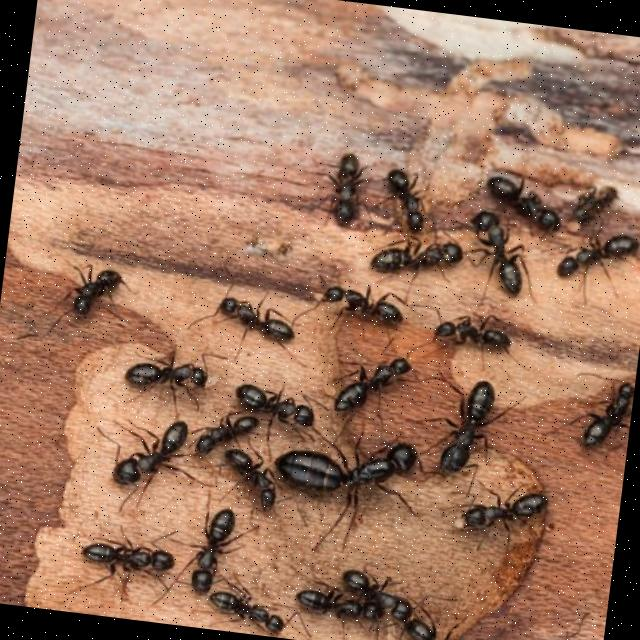Egg: (203, 374, 220, 389), (452, 515, 466, 531)
Medior: (85, 406, 220, 524), (149, 486, 262, 619), (66, 518, 178, 606)
Minor: (319, 331, 449, 454), (188, 256, 312, 364), (226, 377, 330, 467), (452, 472, 551, 560), (293, 274, 417, 342), (121, 340, 222, 418)
Queen: (264, 406, 446, 564)
Soldier: (398, 364, 527, 502), (448, 202, 546, 310)
